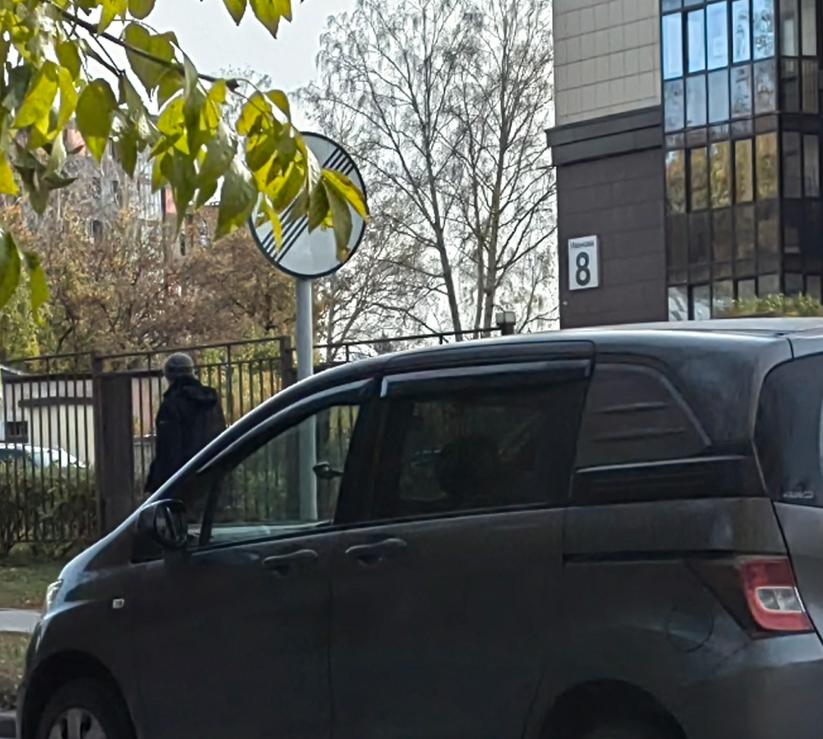obstructed_road_sign: (248, 131, 368, 280)
